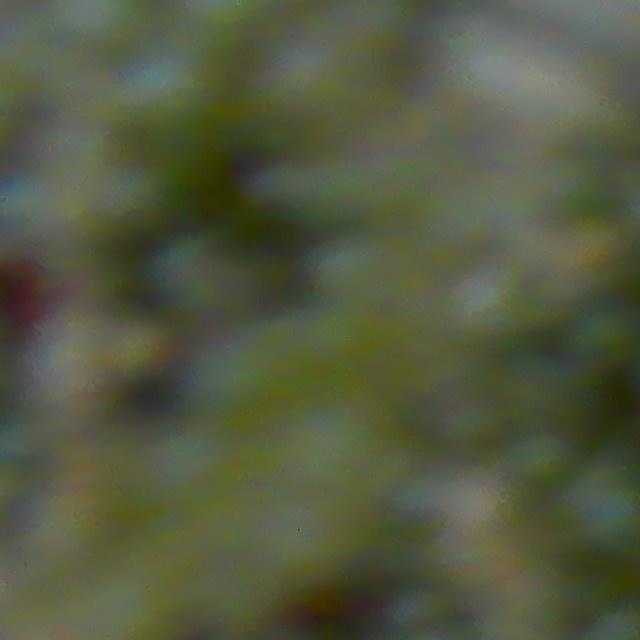SeaGrape: (114, 41, 217, 137), (560, 460, 640, 556), (443, 262, 528, 346), (567, 299, 639, 366), (505, 426, 571, 487)
